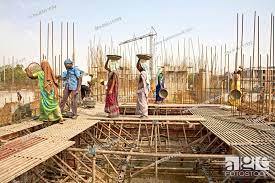arm: (72, 67, 81, 93), (107, 74, 117, 96), (104, 58, 109, 73)
face: (62, 59, 73, 68)
footwear: (68, 111, 78, 119)
helmet: (61, 55, 73, 67)
human: (58, 54, 81, 118)
leg: (57, 87, 69, 117), (67, 88, 78, 119)
novest: (62, 66, 78, 89)
